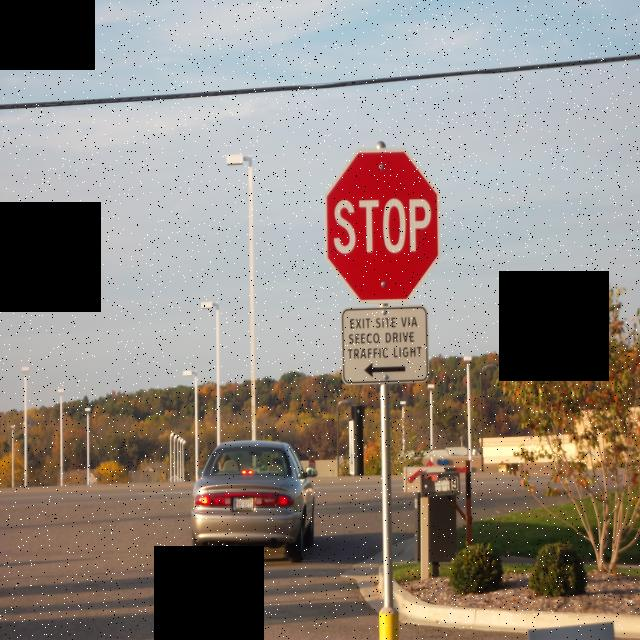regulatory: (337, 306, 433, 386)
stop: (322, 142, 444, 304)
